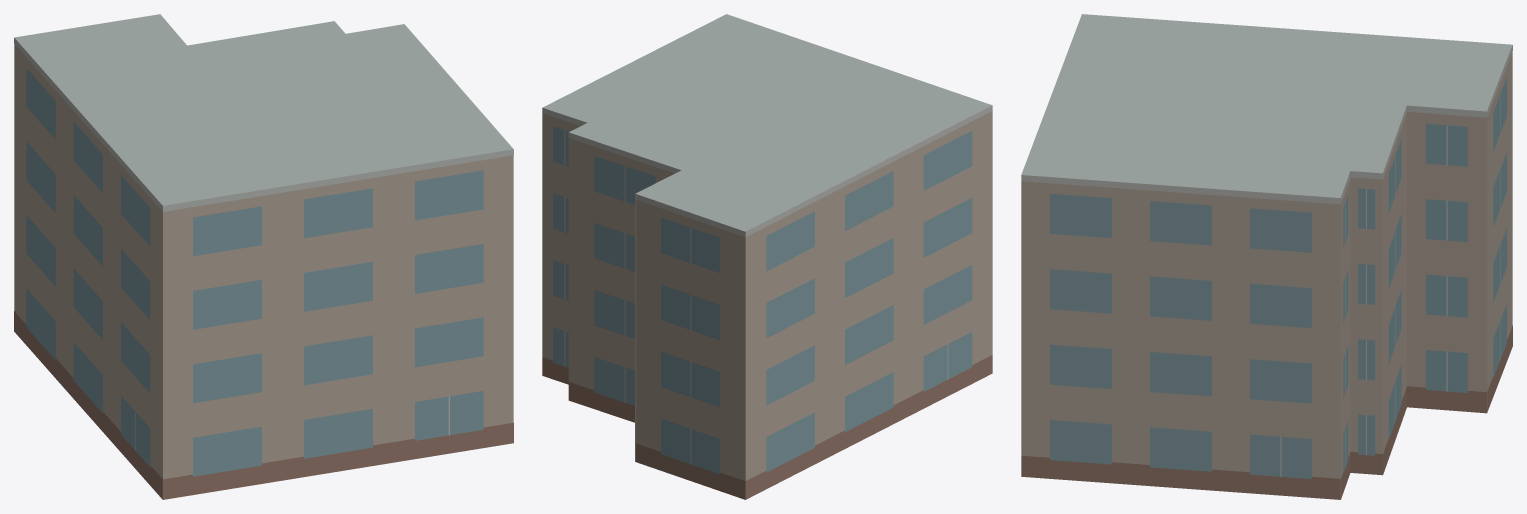
File: survey-upis-32578548.glb
3 views of the same model, side by side, from view 1: azimuth 30°, elevation 25°; view 2: azimuth 150°, elevation 25°; view 3: azimuth 270°, elevation 25° (orthographic). The views are drawn at different scales.
Visible parts, largest first — view 1: survey-upis-32578548.tmp; view 2: survey-upis-32578548.tmp; view 3: survey-upis-32578548.tmp.
Boxes of the visible parts, box(x1,y1,x2,y2) form: survey-upis-32578548.tmp: box(14, 14, 513, 499); survey-upis-32578548.tmp: box(542, 14, 992, 499); survey-upis-32578548.tmp: box(1021, 14, 1512, 499).
Bounding box in the file's own units: 15.45 × 11.8 × 17.43.
